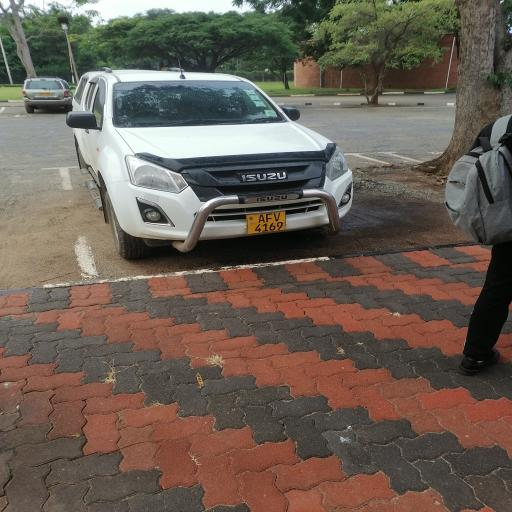number-plates: (246, 208, 291, 234)
